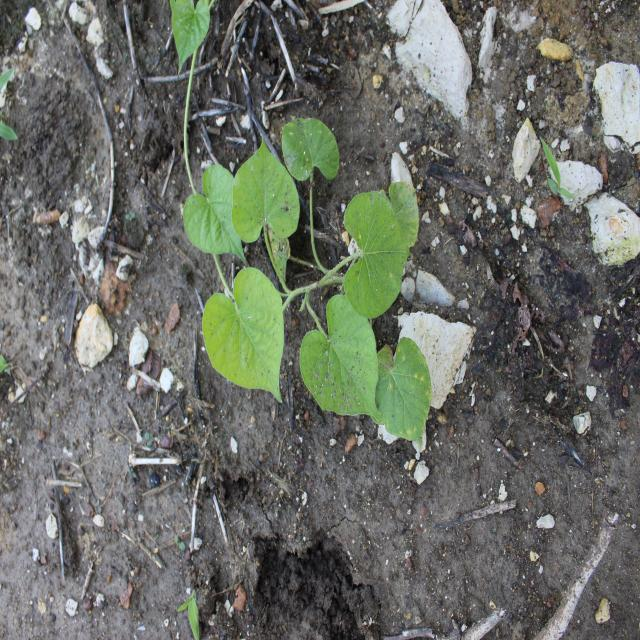MorningGlory: (168, 3, 435, 456)
